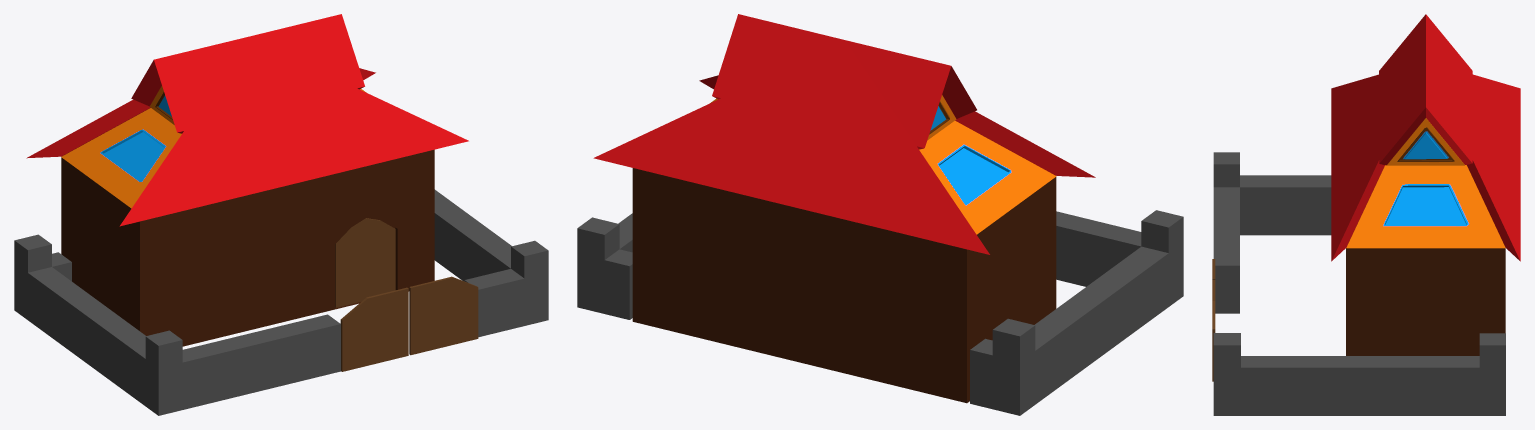
The model's file is Barracks.fbx.
The picture shows the model from 3 angles, left to right: view 1: azimuth 30°, elevation 25°; view 2: azimuth 150°, elevation 25°; view 3: azimuth 270°, elevation 25°; orthographic projection. The views are drawn at different scales.
Visible parts, largest first — view 1: BuildingPrefab, Roof, Wall, Gate, FoundationPrefab, Attic, Door; view 2: BuildingPrefab, Roof, Wall, FoundationPrefab, Attic; view 3: Roof, Wall, BuildingPrefab, Attic, FoundationPrefab, Gate.
Boxes of the visible parts, x1,y1,x2,y2 form: BuildingPrefab: (61, 149, 434, 346); Roof: (26, 14, 468, 226); Wall: (14, 189, 548, 415); Gate: (340, 276, 478, 371); FoundationPrefab: (15, 213, 524, 362); Attic: (61, 86, 365, 208); Door: (335, 218, 395, 307); BuildingPrefab: (632, 168, 1056, 403); Roof: (593, 14, 1095, 254); Wall: (577, 213, 1183, 415); FoundationPrefab: (591, 210, 1182, 415); Attic: (710, 95, 1056, 234); Roof: (1331, 14, 1520, 261); Wall: (1213, 224, 1505, 415); BuildingPrefab: (1346, 248, 1505, 355); Attic: (1346, 118, 1505, 248); FoundationPrefab: (1213, 152, 1331, 313); Gate: (1212, 259, 1215, 381).
Bounding box in the file's own units: 1718 × 1076 × 1159.
